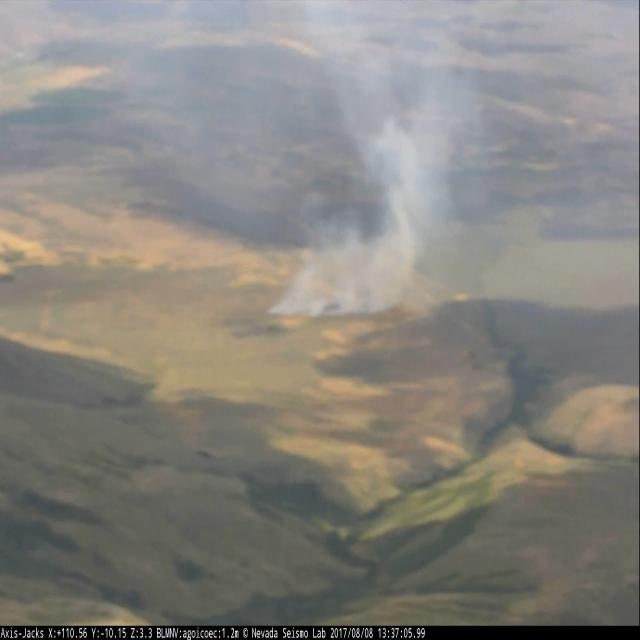smoke: (260, 64, 460, 316)
